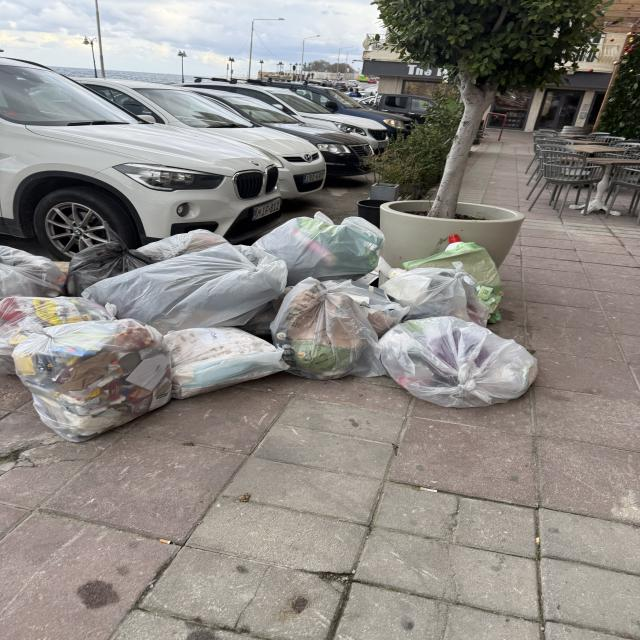Mixed Waste -Black Bags-: (67, 222, 154, 296)
Others Waste: (402, 234, 503, 322)
Recyclable Material -Grey Bags-: (0, 212, 539, 441)
